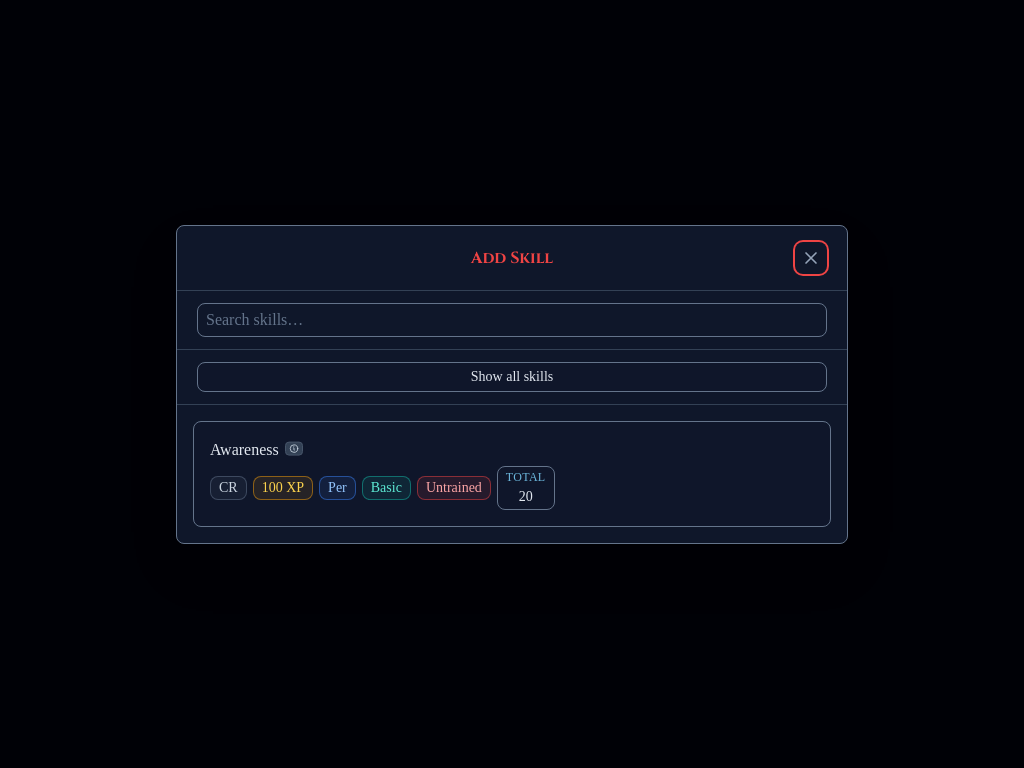
Test: AddSkillModal with a career-restricted list › always opens manual cost entry from the overflow screen, even for a skill that also has a real known cost
The image size is (1024, 768).
What coordinates should you click on to do the following:
click the button "Show all skills"
I would click on:
 (512, 376)
Its box is [197, 362, 827, 392].
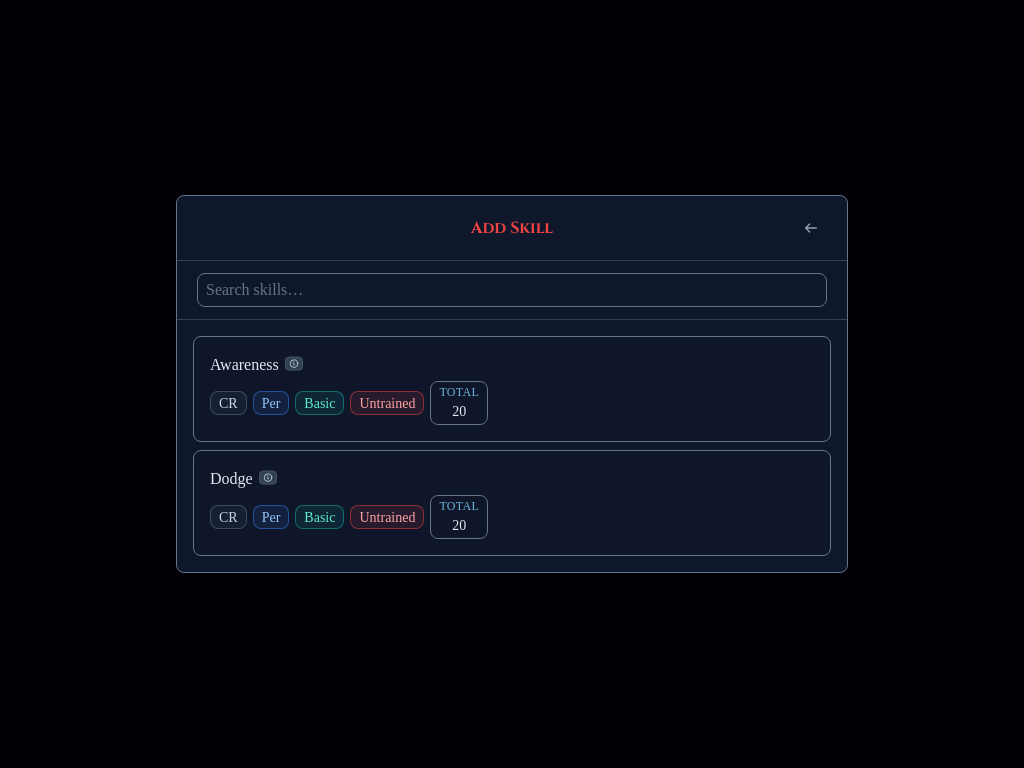
What coordinates should you click on to do the following:
click the button with aria-label "Select Awareness"
I would click on:
 (244, 364)
Its box is [193, 336, 831, 442].
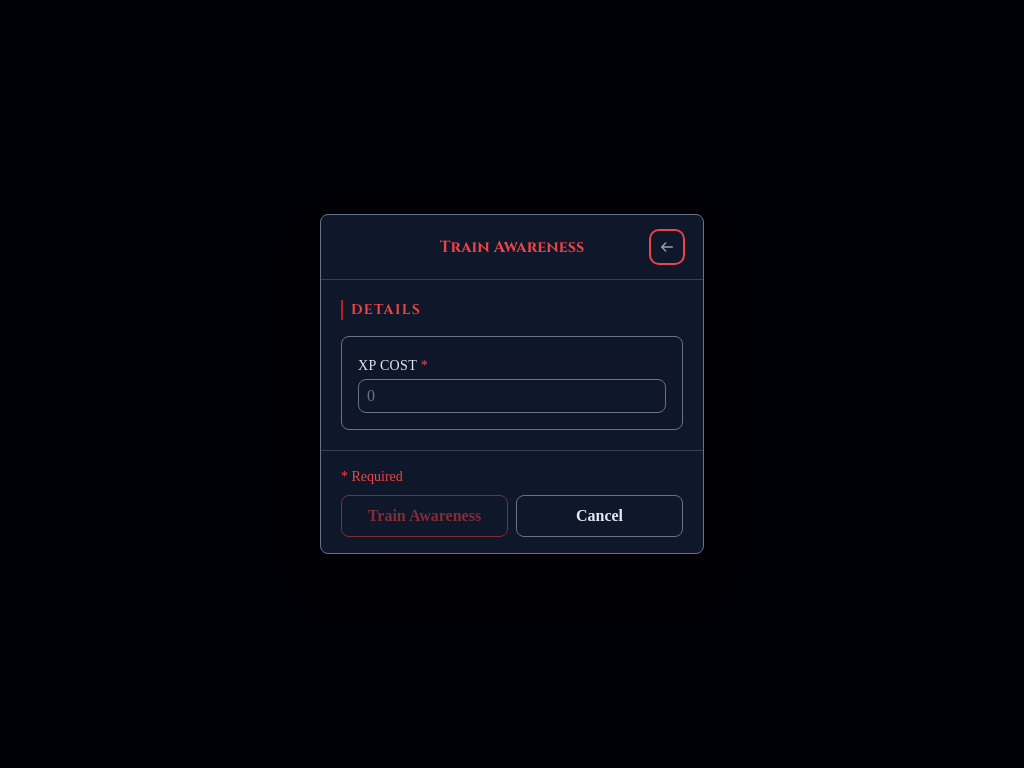
expect the dialog "Train Awareness" is shown: met, box [320, 214, 704, 554]
